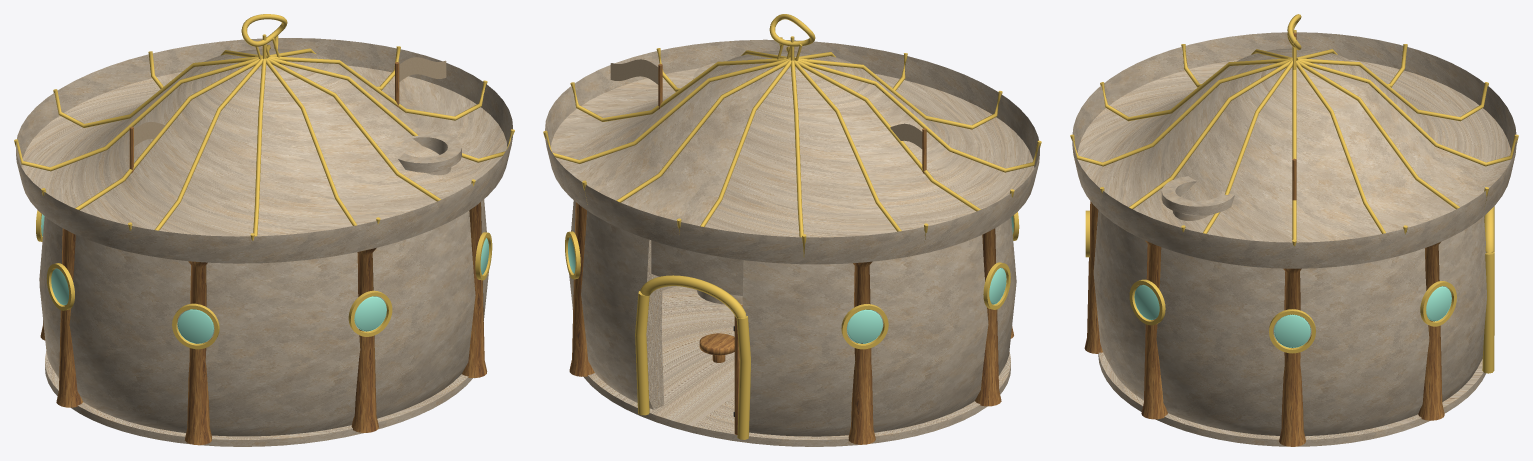
File: 02_Taller_Abombado.obj
3 views of the same model, side by side, from view 1: azimuth 30°, elevation 25°; view 2: azimuth 150°, elevation 25°; view 3: azimuth 270°, elevation 25° (orthographic). The views are drawn at different scales.
Parts seen in each view (by area): view 1: Cubierta_desmontable, Cuerpo_abombado_con_interior, Pilares_y_oculos, Suelo, Conducto_curvo, Arquitectura_del_bioma, Remate_elemental; view 2: Cubierta_desmontable, Cuerpo_abombado_con_interior, Suelo, Pilares_y_oculos, Entrada_arqueada, Dintel_curvo, Arquitectura_del_bioma, Remate_elemental, Mobiliario_interior, Puerta_Pivote_Y; view 3: Cubierta_desmontable, Cuerpo_abombado_con_interior, Pilares_y_oculos, Suelo, Conducto_curvo, Entrada_arqueada.
Part boxes in pixels (x1,y1,x2,y2): Cubierta_desmontable: (14,36,514,263); Cuerpo_abombado_con_interior: (39,199,488,436); Pilares_y_oculos: (36,202,492,445); Suelo: (45,351,472,446); Conducto_curvo: (398,131,461,175); Arquitectura_del_bioma: (129,57,446,173); Remate_elemental: (241,14,287,59); Cubierta_desmontable: (543,37,1041,264); Cuerpo_abombado_con_interior: (569,200,1016,436); Suelo: (583,286,1010,446); Pilares_y_oculos: (565,202,1019,444); Entrada_arqueada: (635,275,750,439); Dintel_curvo: (651,240,743,295); Arquitectura_del_bioma: (610,59,926,174); Remate_elemental: (769,14,815,60); Mobiliario_interior: (699,333,734,362); Puerta_Pivote_Y: (733,304,742,435); Cubierta_desmontable: (1070,29,1518,268); Cuerpo_abombado_con_interior: (1093,210,1486,436); Pilares_y_oculos: (1084,201,1456,446); Suelo: (1098,352,1485,446); Conducto_curvo: (1161,176,1234,220); Entrada_arqueada: (1482,206,1494,373).
Bounding box in the file's own units: 8.13 × 6.01 × 7.27.
